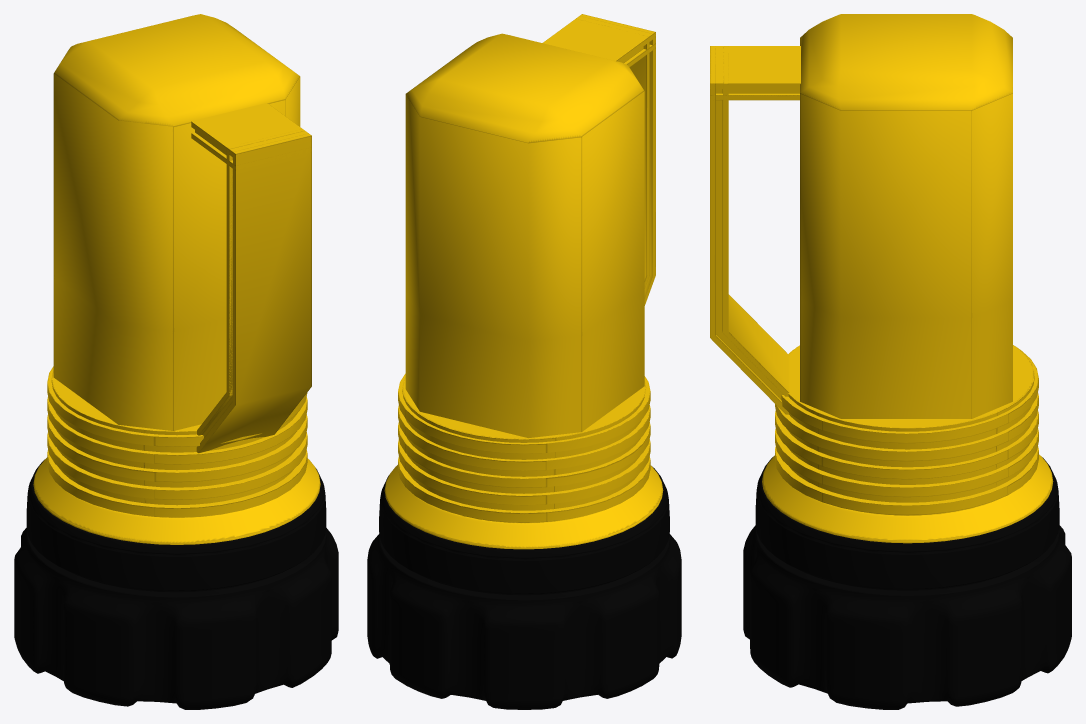
File: FlashLight_Model_V1.fbx
3 views of the same model, side by side, from view 1: azimuth 30°, elevation 25°; view 2: azimuth 150°, elevation 25°; view 3: azimuth 270°, elevation 25° (orthographic). The views are drawn at different scales.
Visible parts, largest first — view 1: handle_1, pCylinder1_1; view 2: handle_1, pCylinder1_1; view 3: handle_1, pCylinder1_1.
Boxes of the visible parts, box(x1,y1,x2,y2) form: handle_1: box(33, 14, 320, 544); pCylinder1_1: box(14, 459, 338, 709); handle_1: box(384, 14, 663, 549); pCylinder1_1: box(367, 466, 681, 709); handle_1: box(710, 14, 1053, 543); pCylinder1_1: box(743, 457, 1071, 709).
Size of the model in its own units: 24.91 by 50.41 by 27.42.
Materials: 2 (2 with a texture image).
